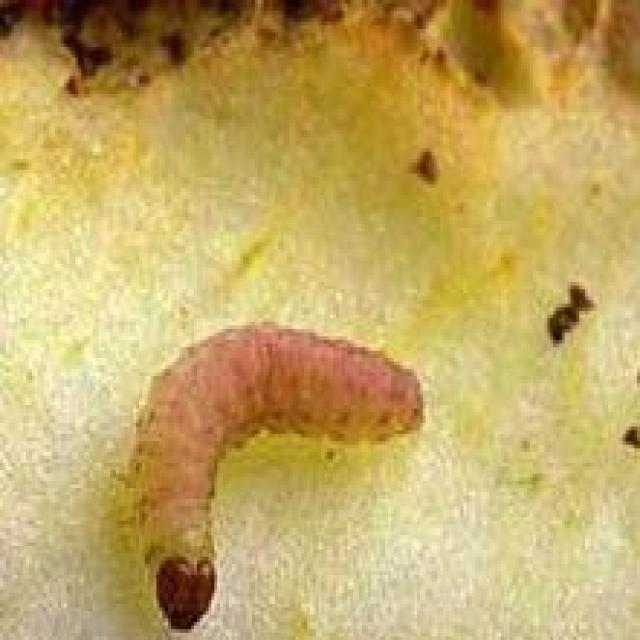peach borer: (110, 308, 431, 634)
